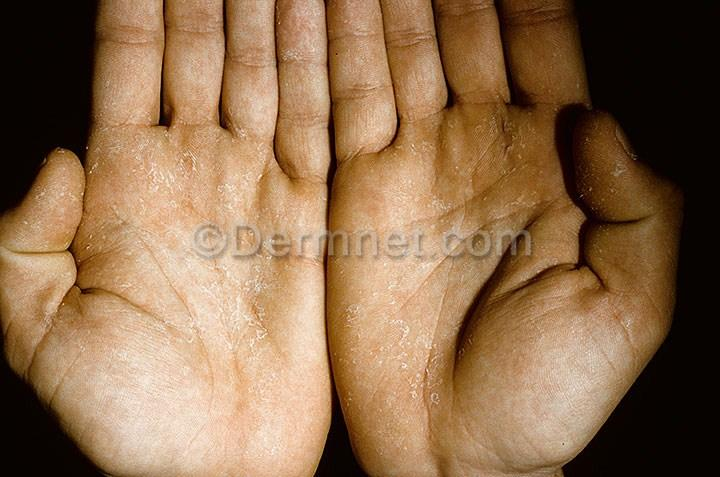Eczema: (450, 176, 546, 249), (373, 295, 465, 358), (326, 335, 399, 409), (498, 290, 567, 367), (223, 289, 289, 365), (224, 208, 284, 290), (372, 234, 444, 302), (75, 305, 147, 370), (165, 197, 218, 283), (510, 114, 581, 176), (93, 189, 169, 243), (574, 308, 640, 370), (155, 288, 218, 349), (311, 278, 371, 341), (360, 406, 419, 470), (335, 109, 399, 166), (382, 174, 442, 233), (461, 108, 516, 172), (281, 201, 319, 287), (228, 143, 272, 217), (405, 353, 456, 415), (92, 249, 149, 304), (175, 128, 219, 197), (29, 281, 73, 349), (404, 115, 459, 169), (109, 131, 162, 187), (329, 224, 379, 283), (531, 57, 583, 113), (9, 192, 63, 244), (582, 146, 633, 200), (336, 165, 383, 222), (174, 2, 221, 52), (625, 276, 669, 329), (109, 39, 158, 86), (279, 5, 323, 56), (515, 12, 567, 55), (286, 139, 323, 199), (103, 86, 148, 135), (250, 365, 300, 409), (344, 68, 394, 111), (591, 226, 633, 274), (38, 160, 80, 205), (543, 175, 575, 233), (337, 21, 377, 65), (281, 199, 320, 243), (110, 0, 155, 35), (175, 87, 215, 126), (226, 104, 265, 144), (231, 24, 268, 65), (170, 38, 210, 75), (234, 67, 274, 104), (286, 102, 322, 143), (280, 66, 316, 100), (237, 0, 266, 26)
